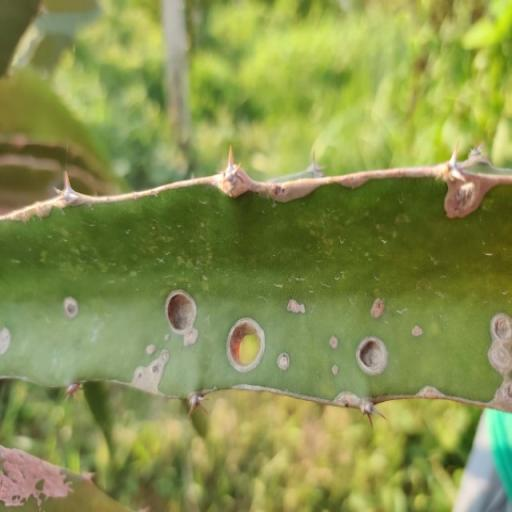stemcanker: (408, 313, 436, 348), (62, 290, 77, 338), (137, 334, 159, 366), (370, 290, 389, 326), (1, 318, 14, 366), (287, 299, 316, 316), (327, 329, 342, 355), (329, 358, 342, 386), (159, 326, 177, 346)
